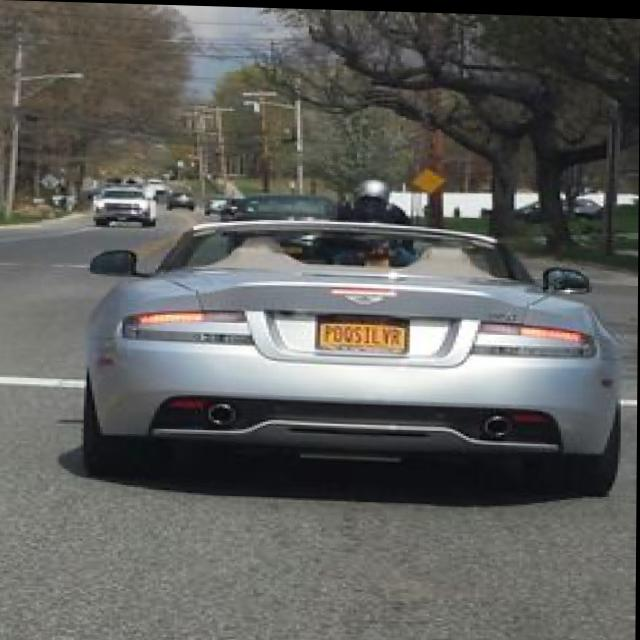licence: (315, 307, 413, 352)
